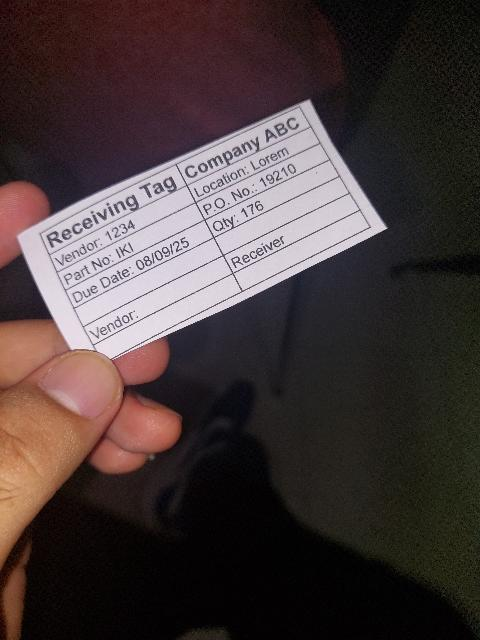PO no: (196, 142, 330, 219)
part no: (58, 203, 205, 291)
qty: (203, 160, 338, 237)
tags: (19, 100, 386, 360)
